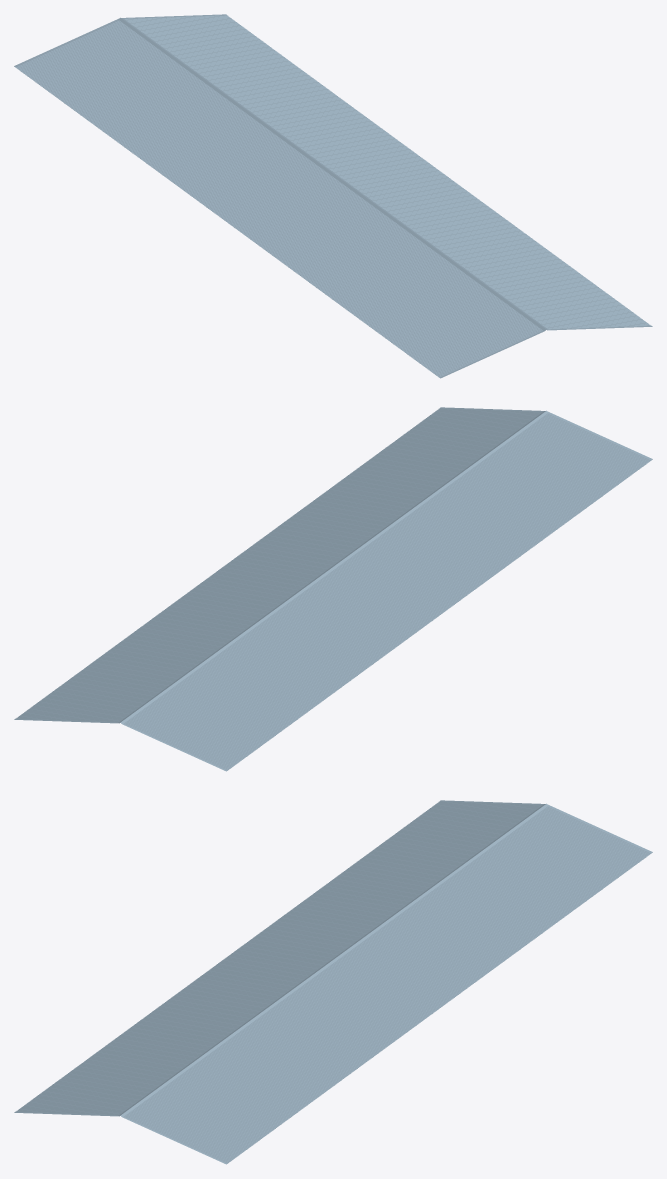
File: atap.glb
3 views of the same model, one above another, from view 1: azimuth 30°, elevation 25°; view 2: azimuth 150°, elevation 25°; view 3: azimuth 330°, elevation 25° (orthographic).
Parts seen in each view (by area): view 1: atap; view 2: atap; view 3: atap.
Boxes of the visible parts, <box> form: atap: <box>14,14,652,378</box>; atap: <box>14,407,652,771</box>; atap: <box>14,800,652,1164</box>.
Bounding box in the file's own units: 17.26 × 1.8 × 60.09.
